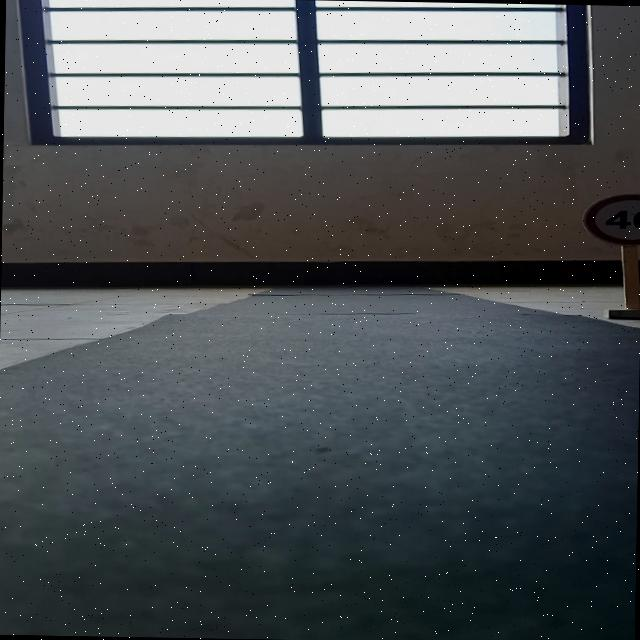Speed40: (581, 187, 640, 245)
